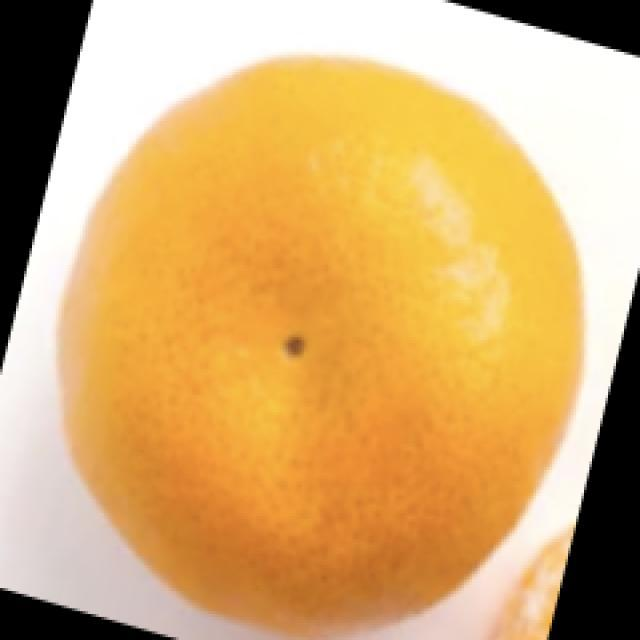Orange: (53, 51, 585, 638)
